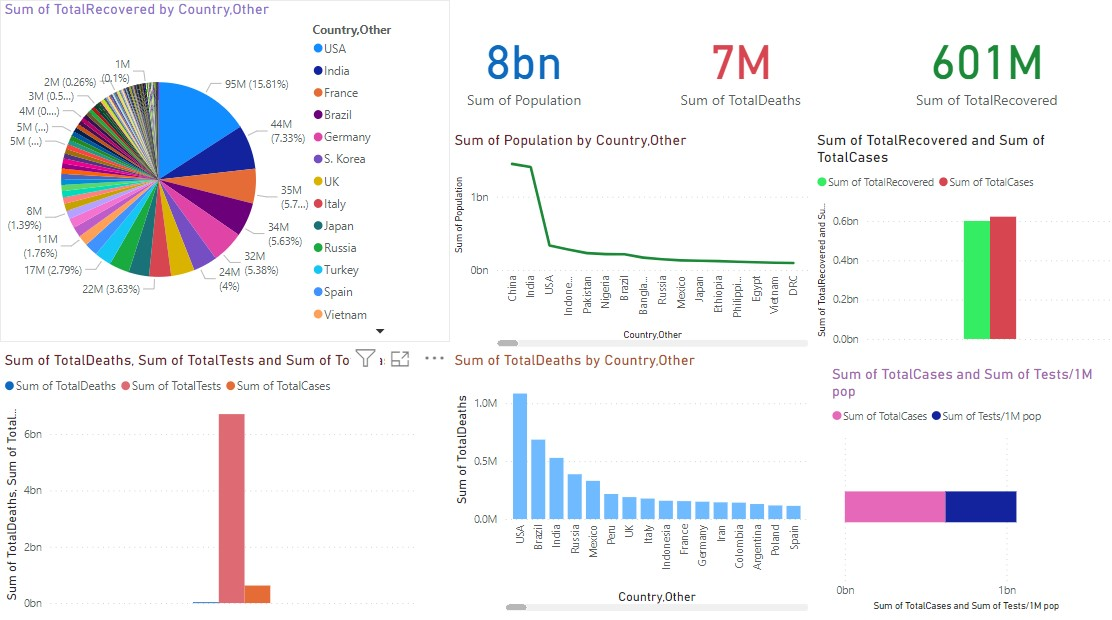

Layout of this report page (visuals, bound fields, positions):
{"tool":"powerbi","page":{"name":"Page 1","canvas":[1280,720],"ordinal":0},"visuals":[{"type":"clusteredColumnChart","fields":{"Y":["Sum(corona.TotalDeaths)","Sum(corona.TotalTests)","Sum(corona.TotalCases)"]},"box":[0,401.4,481.4,301.4],"z":1},{"type":"card","fields":{"Values":["Sum(corona.Population)"]},"box":[481.4,0,235.7,150],"z":2},{"type":"card","fields":{"Values":["Sum(corona.TotalDeaths)"]},"box":[717.1,0,258.6,150],"z":3},{"type":"lineChart","fields":{"Y":["Sum(corona.Population)"],"Category":["corona.Country,Other"]},"box":[514.3,150,414.3,251.4],"z":4},{"type":"lineClusteredColumnComboChart","fields":{"Category":["corona.Country,Other"],"Y":["Sum(corona.TotalDeaths)"]},"box":[514.3,401.4,414.3,301.4],"z":5},{"type":"barChart","fields":{"Y":["Sum(corona.TotalCases)","Sum(corona.Tests/1M pop)"]},"box":[945.7,417.1,317.1,285.7],"z":6},{"type":"lineClusteredColumnComboChart","fields":{"Y":["Sum(corona.TotalRecovered)","Sum(corona.TotalCases)"]},"box":[928.6,150,351.4,251.4],"z":7},{"type":"pieChart","fields":{"Category":["corona.Country,Other"],"Y":["Sum(corona.TotalRecovered)"]},"box":[0,0,514.3,391.4],"z":8},{"type":"card","fields":{"Values":["Sum(corona.TotalRecovered)"]},"box":[976,0,304,150],"z":9}]}

Visuals, with their boxes in screenshot pixels (x1, y1, x2, y2), scaled from the page's 1280x720 canvas onto the 1112x620 screenshot:
clusteredColumnChart - Sum(corona.TotalDeaths) x Sum(corona.TotalTests): rect(0, 346, 418, 605)
card - Sum(corona.Population): rect(418, 0, 623, 129)
card - Sum(corona.TotalDeaths): rect(623, 0, 848, 129)
lineChart - Sum(corona.Population) x corona.Country,Other: rect(447, 129, 807, 346)
lineClusteredColumnComboChart - corona.Country,Other x Sum(corona.TotalDeaths): rect(447, 346, 807, 605)
barChart - Sum(corona.TotalCases) x Sum(corona.Tests/1M pop): rect(822, 359, 1097, 605)
lineClusteredColumnComboChart - Sum(corona.TotalRecovered) x Sum(corona.TotalCases): rect(807, 129, 1111, 346)
pieChart - corona.Country,Other x Sum(corona.TotalRecovered): rect(0, 0, 447, 337)
card - Sum(corona.TotalRecovered): rect(848, 0, 1111, 129)
